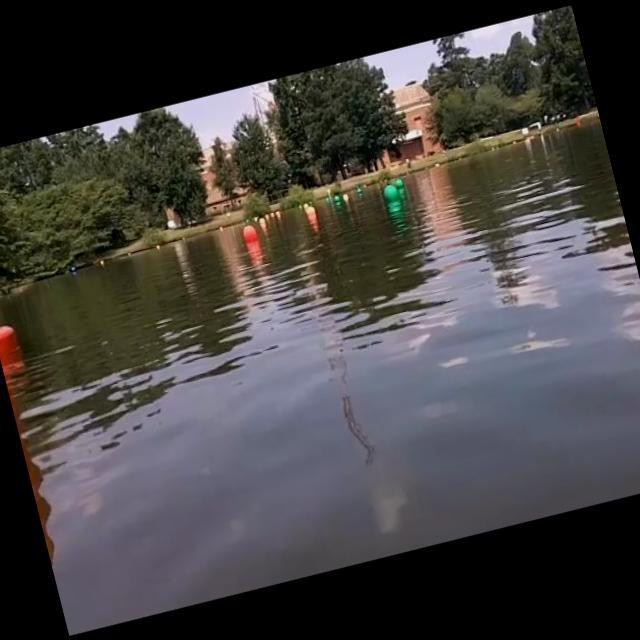buoy: (380, 180, 400, 202), (240, 222, 258, 244), (305, 205, 316, 217), (394, 176, 404, 188), (342, 192, 350, 201)
